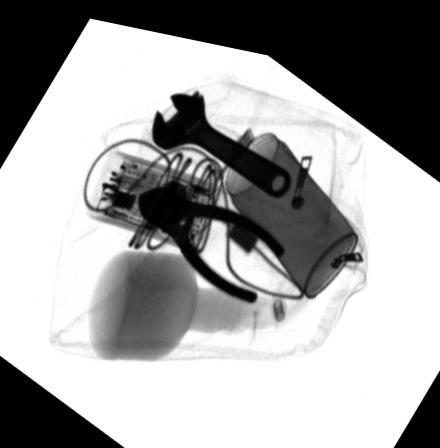Pliers: (135, 174, 288, 295)
Wrench: (151, 79, 293, 188)
